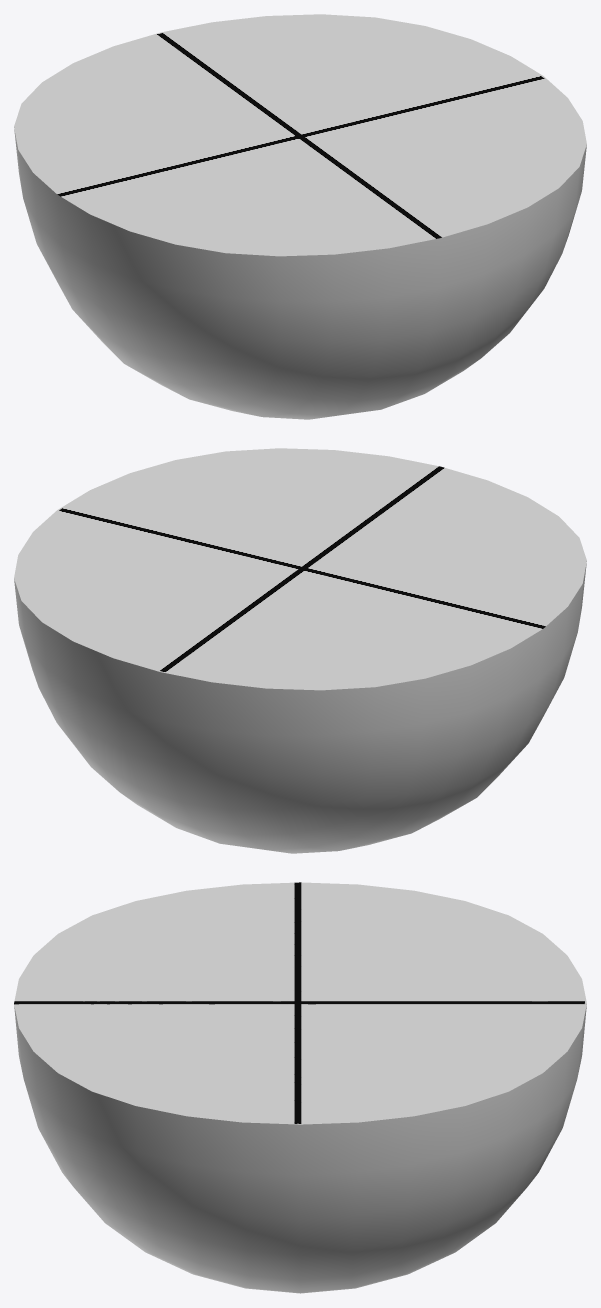
Rendered from hemisphere.glb.
3 renders of one model, top to bottom at view 1: azimuth 30°, elevation 25°; view 2: azimuth 150°, elevation 25°; view 3: azimuth 270°, elevation 25°, orthographic. The views are drawn at different scales.
Visible parts, largest first — view 1: Object_3; view 2: Object_3; view 3: Object_3.
Part boxes in pixels (bbox=[...]): Object_3: bbox=[14, 14, 586, 419]; Object_3: bbox=[14, 448, 586, 853]; Object_3: bbox=[14, 882, 586, 1293].
Bounding box in the file's own units: 9.07 × 4.54 × 9.07.
Materials: 1 (1 with a texture image).
